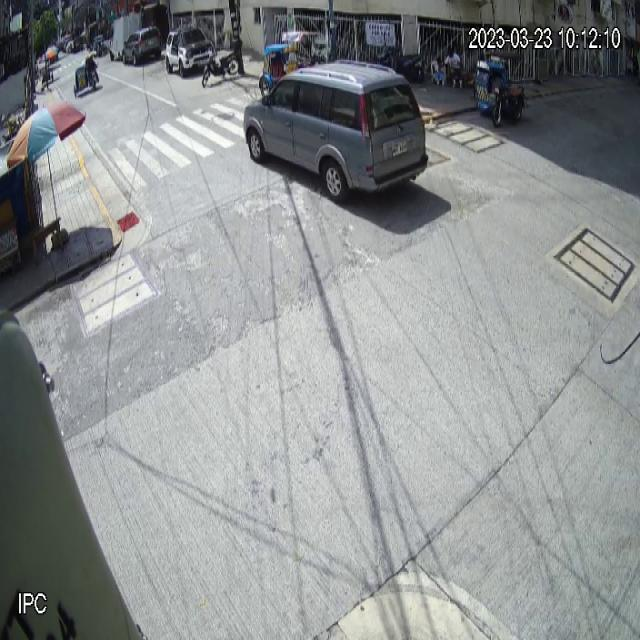Car: (243, 59, 429, 202)
Tricycle: (258, 31, 327, 101), (475, 51, 529, 127)
